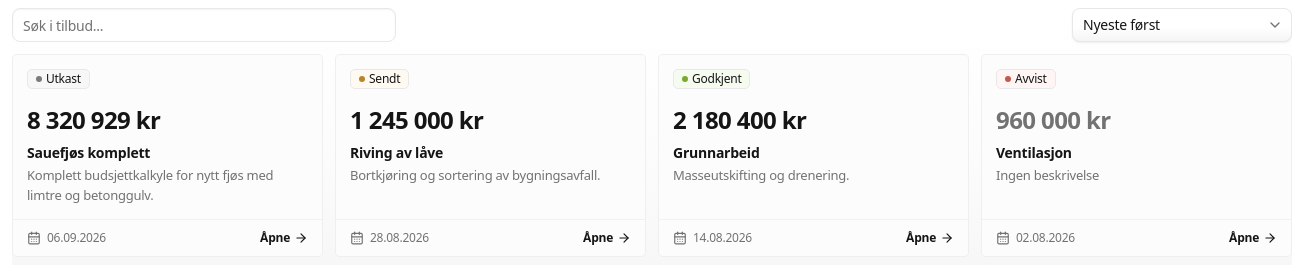
Test: Tilbud-fanen – sortering › sorterer «Beløp høy til lav»
Click the dropdown. click: (1182, 25)
box: [1072,8,1292,42]
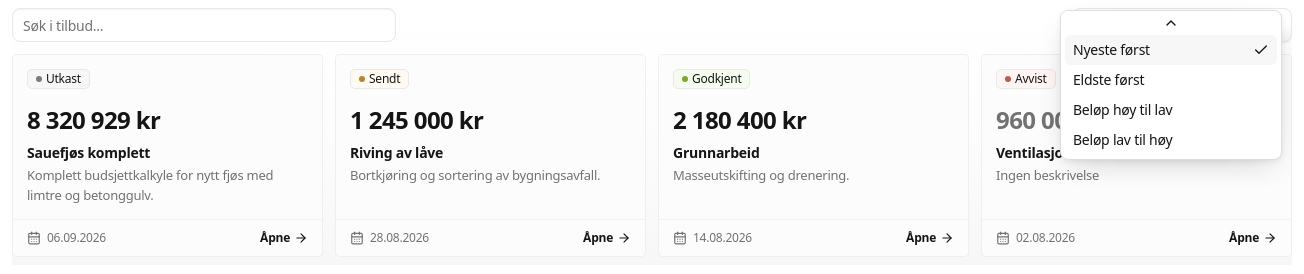
Click the option "Beløp høy til lav". click: (1123, 110)
box: [1073,100,1172,119]
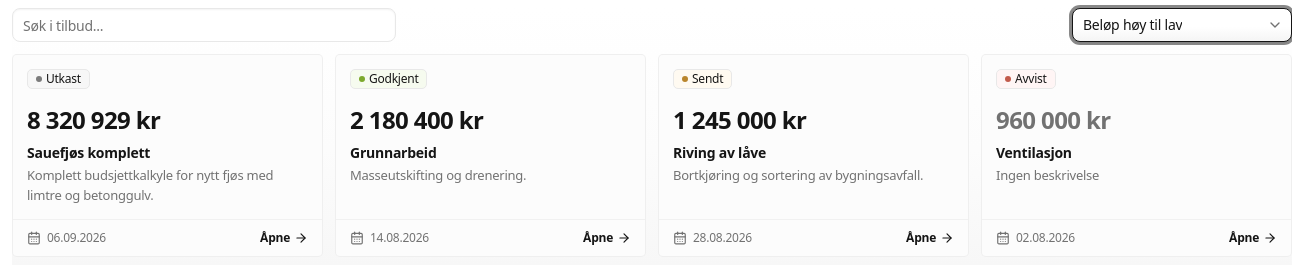
Now the dropdown reads "Beløp høy til lav", box [1072,8,1292,42]
